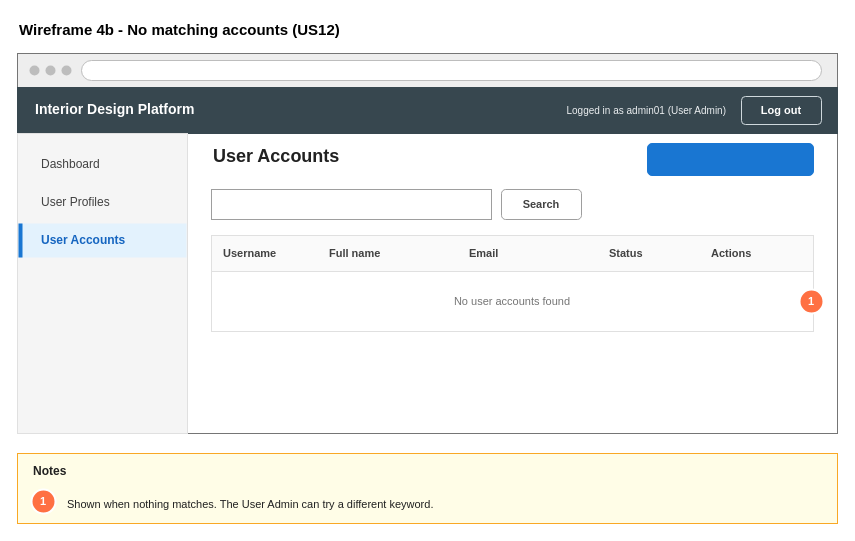
Some shapes in this 855 by 541 pixel diagram are drawn without their labels. Here are the shapes that lost their labels. From the top down, the centre of each, then its label:
At pixel 451 70: "localhost:8080/admin/accounts?keyword=zzzz".
At pixel 730 159: "+ Create user account".
At pixel 351 204: "zzzz".
